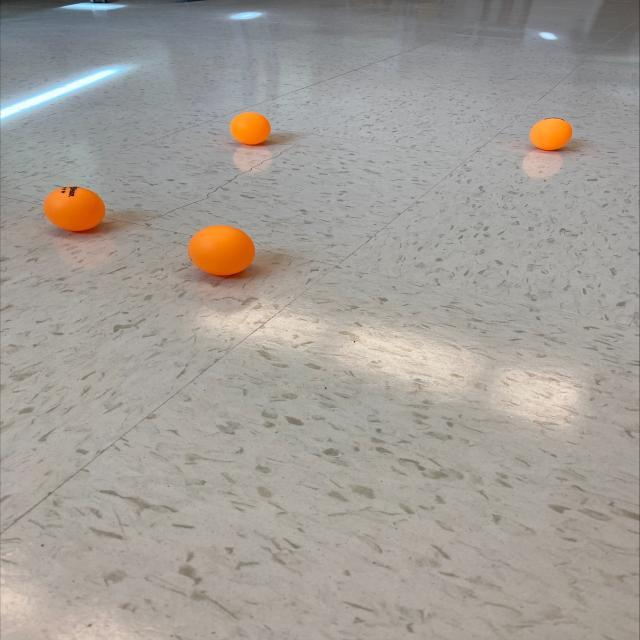ping-pong-ball: (183, 224, 260, 278), (39, 184, 109, 233), (526, 115, 576, 154), (228, 108, 272, 146)
